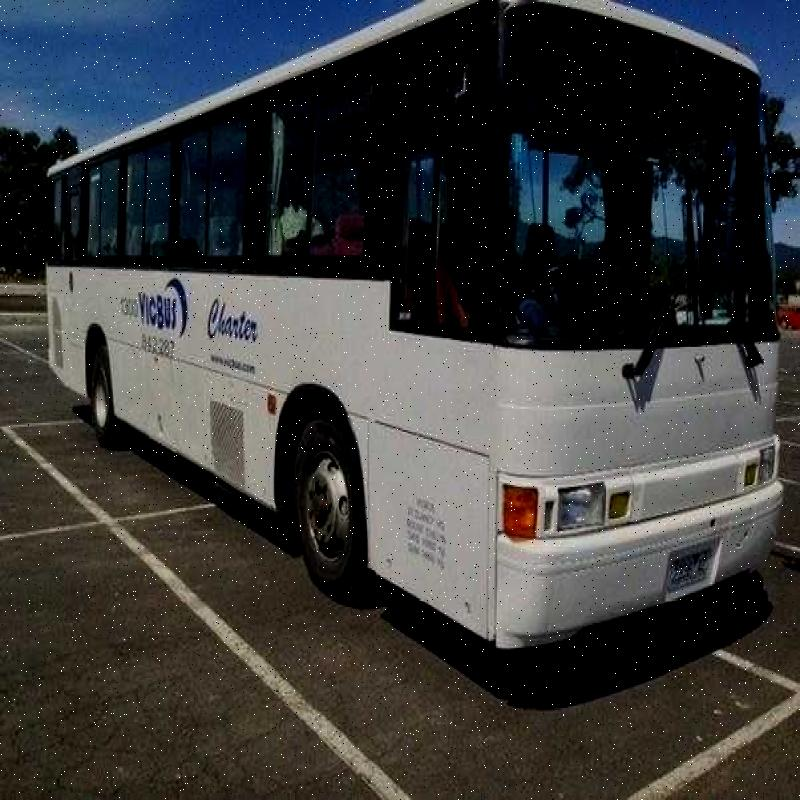bus: (51, 25, 777, 641)
